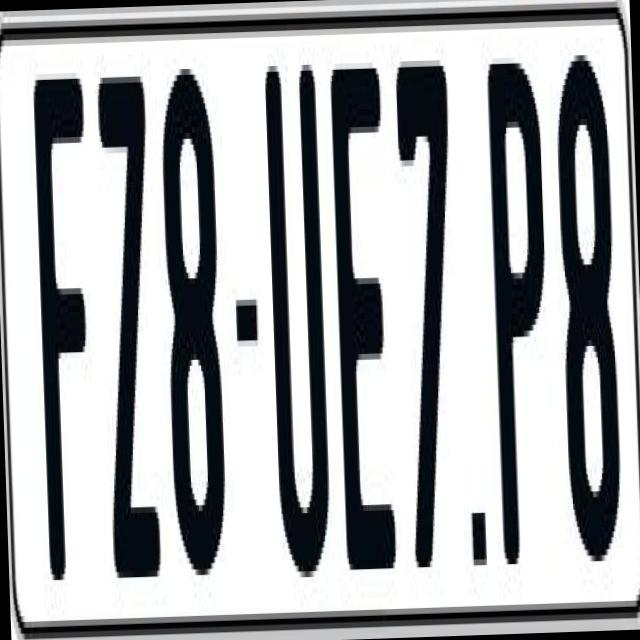7: (391, 48, 468, 562)
8: (552, 54, 628, 596), (154, 62, 232, 576)
E: (326, 56, 401, 558)
F: (29, 60, 96, 562)
P: (488, 62, 558, 599)
U: (261, 58, 339, 600)
Z: (95, 75, 163, 578)
